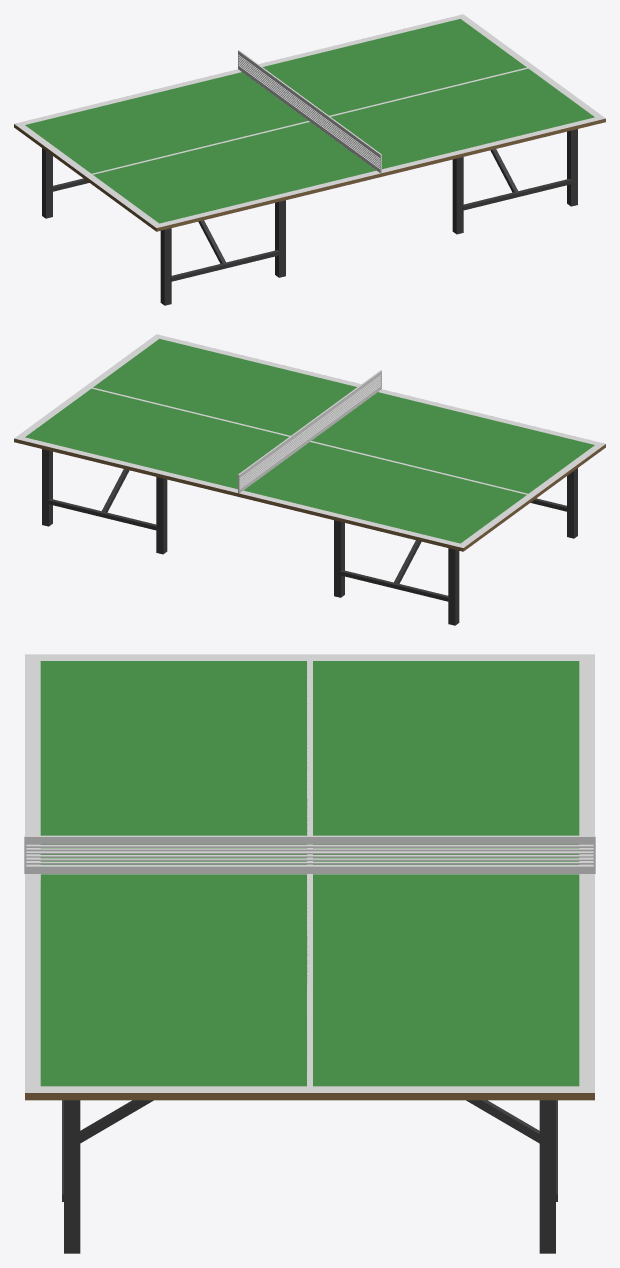
File: table_wold.glb
The picture shows the model from 3 angles, top to bottom: view 1: azimuth 30°, elevation 25°; view 2: azimuth 150°, elevation 25°; view 3: azimuth 270°, elevation 25°; orthographic projection. The views are drawn at different scales.
Visible parts, largest first — view 1: PingPongTable; view 2: PingPongTable; view 3: PingPongTable.
Boxes of the visible parts, x1=… form: PingPongTable: x1=14, y1=14, x2=605, y2=305; PingPongTable: x1=14, y1=334, x2=605, y2=625; PingPongTable: x1=24, y1=654, x2=595, y2=1253.
Size of the model in its own units: 13.03 by 2.99 by 7.17.
